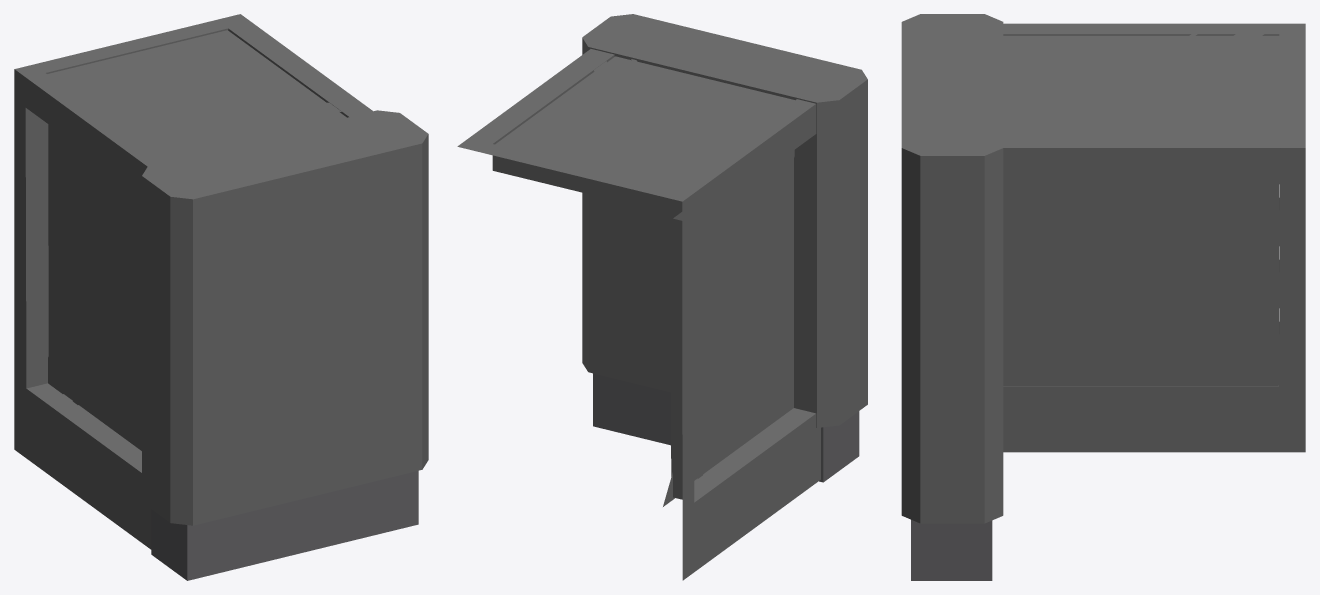
File: parking_02.FBX
The picture shows the model from 3 angles, left to right: view 1: azimuth 30°, elevation 25°; view 2: azimuth 150°, elevation 25°; view 3: azimuth 270°, elevation 25°; orthographic projection. The views are drawn at different scales.
Visible parts, largest first — view 1: parking_02; view 2: parking_02; view 3: parking_02.
Boxes of the visible parts, x1,y1,x2,y2 form: parking_02: (14,14,428,580); parking_02: (457,14,867,580); parking_02: (901,14,1305,580).
Size of the model in its own units: 463 by 659 by 565.
